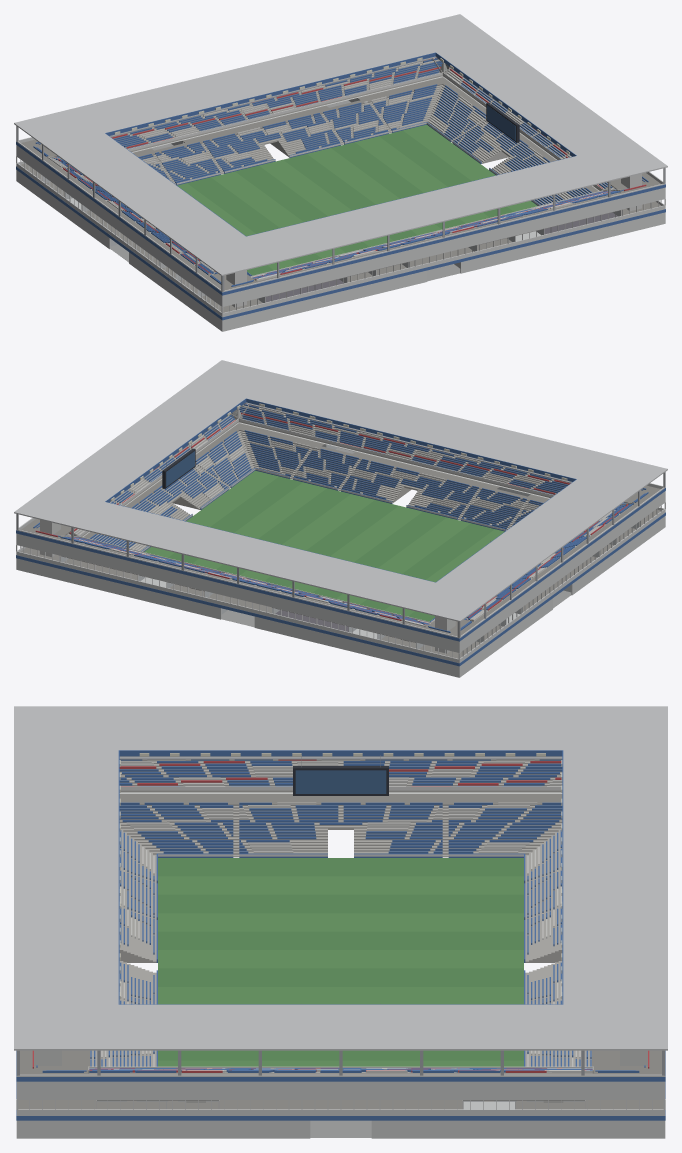
Rendered from arena.zfix-v4.lod0.glb.
3 renders of one model, top to bottom at view 1: azimuth 30°, elevation 25°; view 2: azimuth 150°, elevation 25°; view 3: azimuth 270°, elevation 25°, orthographic. The views are drawn at different scales.
Visible parts, largest first — view 1: arena; view 2: arena; view 3: arena.
Part boxes in pixels (<box>): arena: <box>14,14,667,331</box>; arena: <box>14,360,667,677</box>; arena: <box>14,706,667,1138</box>.
Bounding box in the file's own units: 186 × 23.06 × 150.
